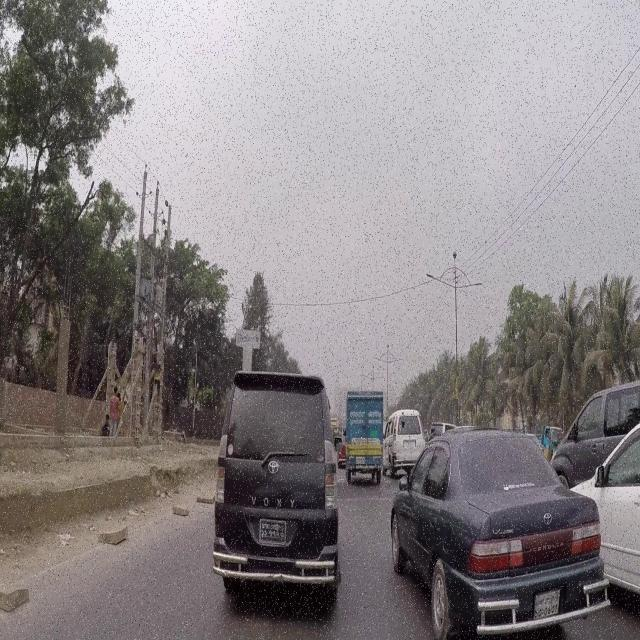numberplate: (253, 516, 295, 547), (532, 587, 561, 619)
